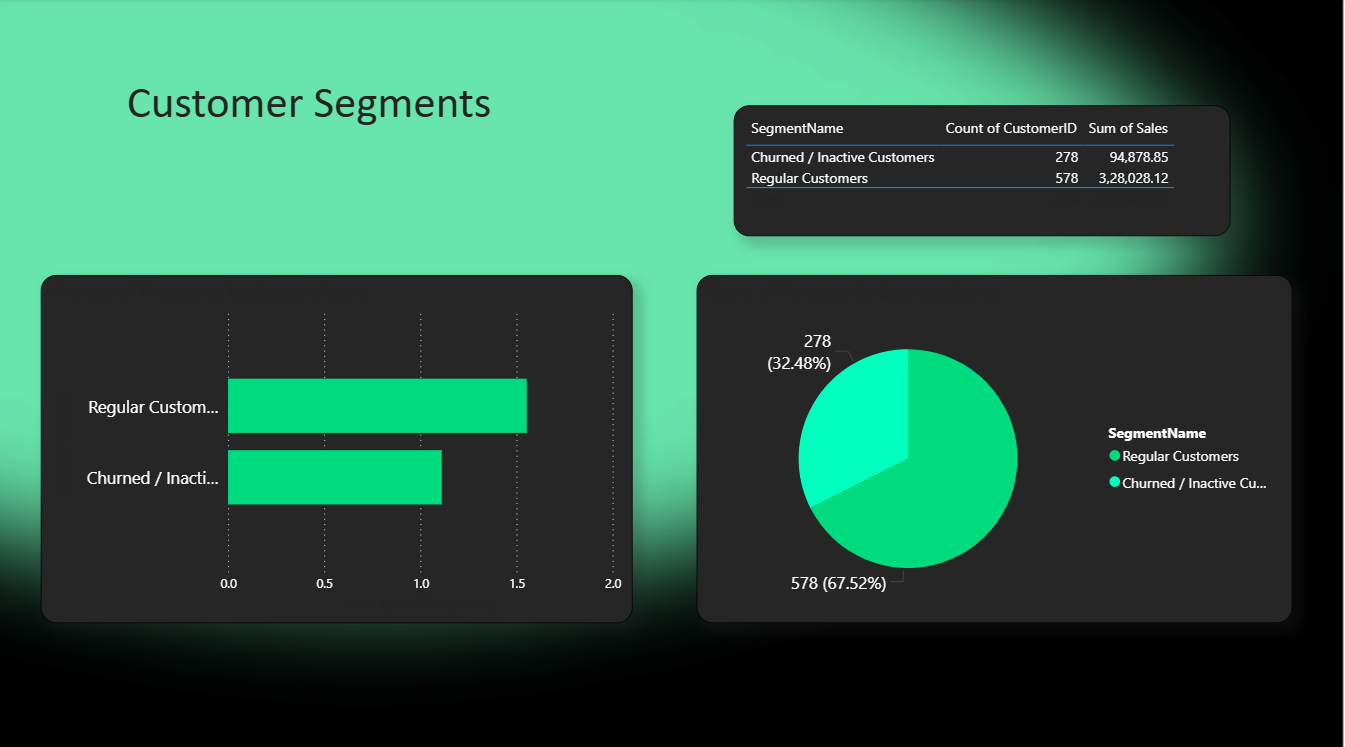

What the dashboard file says about the page in this screenshot:
{"tool":"powerbi","page":{"name":"Customer Segments","canvas":[1280,720],"ordinal":1},"visuals":[{"type":"tableEx","fields":{"Values":["clustered_customer_data.SegmentName","clustered_customer_data.CustomerID","Sum(Clean_Transactions3.Sales)"]},"box":[700.8,102.1,472.6,124.8],"z":1000},{"type":"barChart","fields":{"Y":["Avg(clustered_customer_data.Frequency)"],"Category":["clustered_customer_data.SegmentName"]},"box":[41.6,263.4,563.4,331.5],"z":2000},{"type":"pieChart","fields":{"Category":["clustered_customer_data.SegmentName"],"Y":["CountNonNull(clustered_customer_data.Monetary)"]},"box":[665.5,263.4,567.2,331.5],"z":3000},{"type":"textbox","box":[118.5,66.8,379.4,70.6],"z":4000}]}

Visuals, with their boxes in screenshot pixels (x1, y1, x2, y2), scaled from the page's 1280x720 canvas onto the 1345x747 screenshot:
tableEx - clustered_customer_data.SegmentName x clustered_customer_data.CustomerID: detection(736, 106, 1233, 235)
barChart - Avg(clustered_customer_data.Frequency) x clustered_customer_data.SegmentName: detection(44, 273, 636, 617)
pieChart - clustered_customer_data.SegmentName x CountNonNull(clustered_customer_data.Monetary): detection(699, 273, 1295, 617)
textbox: detection(125, 69, 523, 143)
